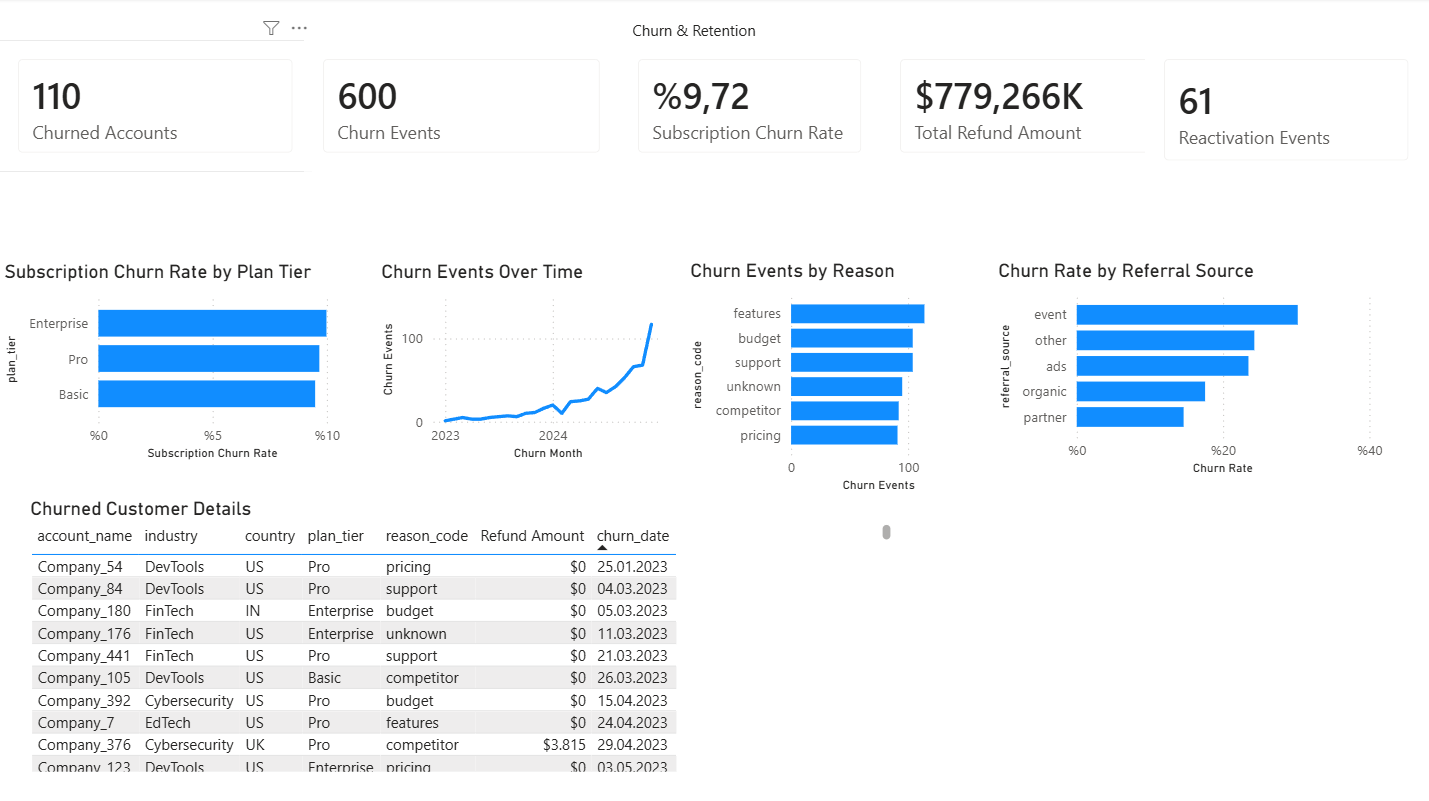

The page's visual inventory and layout, read from the dashboard file:
{"tool":"powerbi","page":{"name":"Churn & Retention","canvas":[1280,720],"ordinal":1},"visuals":[{"type":"cardVisual","fields":{"Data":["_Measures.Churned Accounts"]},"box":[0,37.6,280.6,118.3],"z":0},{"type":"cardVisual","fields":{"Data":["_Measures.Churn Events"]},"box":[273.1,37.6,282.1,118.2],"z":1000},{"type":"cardVisual","fields":{"Data":["_Measures.Subscription Churn Rate"]},"box":[555.2,37.6,234.6,118.2],"z":2000},{"type":"cardVisual","fields":{"Data":["_Measures.Total Refund Amount"]},"box":[789.9,37.6,280.3,118.2],"z":3000},{"type":"cardVisual","fields":{"Data":["_Measures.Reactivation Events"]},"box":[1026.3,37.6,253.7,125.5],"z":4000},{"type":"clusteredBarChart","title":"Subscription Churn Rate by Plan Tier","fields":{"Category":["subscriptions.plan_tier"],"Y":["_Measures.Subscription Churn Rate"]},"box":[0,234.3,310.6,183.8],"z":5000},{"type":"clusteredBarChart","title":"Churn Rate by Referral Source","fields":{"Category":["accounts.referral_source"],"Y":["_Measures.Churn Rate"]},"box":[890.1,233.9,354.1,198.1],"z":6000},{"type":"lineChart","title":"Churn Events Over Time","fields":{"Category":["churn_events.Churn Month"],"Y":["_Measures.Churn Events"]},"box":[337.2,234.3,264.6,183.8],"z":7000},{"type":"barChart","title":"Churn Events by Reason","fields":{"Category":["churn_events.reason_code"],"Y":["_Measures.Churn Events"]},"box":[614,233.9,267.1,213.3],"z":8000},{"type":"tableEx","title":"Churned Customer Details","fields":{"Values":["accounts.account_name","accounts.industry","accounts.country","accounts.plan_tier","churn_events.reason_code","Sum(churn_events.refund_amount_usd)","churn_events.churn_date"]},"box":[23.3,447.3,780.7,251],"z":9000},{"type":"textbox","box":[562,15.2,138.9,28.7],"z":10000}]}

Visuals, with their boxes in screenshot pixels (x1, y1, x2, y2), scaled from the page's 1280x720 canvas onto the 1429x801 screenshot:
cardVisual - _Measures.Churned Accounts: <region>0, 42, 313, 173</region>
cardVisual - _Measures.Churn Events: <region>305, 42, 620, 173</region>
cardVisual - _Measures.Subscription Churn Rate: <region>620, 42, 882, 173</region>
cardVisual - _Measures.Total Refund Amount: <region>882, 42, 1195, 173</region>
cardVisual - _Measures.Reactivation Events: <region>1146, 42, 1428, 181</region>
"Subscription Churn Rate by Plan Tier" clusteredBarChart: <region>0, 261, 347, 465</region>
"Churn Rate by Referral Source" clusteredBarChart: <region>994, 260, 1389, 481</region>
"Churn Events Over Time" lineChart: <region>376, 261, 672, 465</region>
"Churn Events by Reason" barChart: <region>685, 260, 984, 498</region>
"Churned Customer Details" tableEx: <region>26, 498, 898, 777</region>
textbox: <region>627, 17, 782, 49</region>
